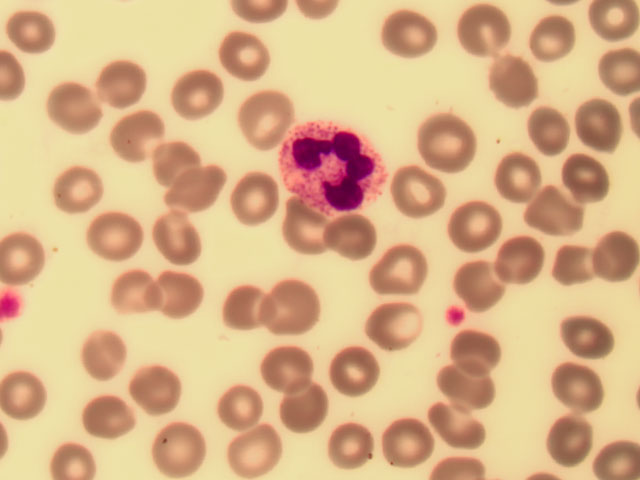Platelets: (1, 287, 24, 321), (444, 302, 466, 329)
RBC: (584, 47, 640, 101), (92, 58, 148, 111), (111, 107, 167, 160), (172, 63, 228, 116), (214, 30, 270, 83), (234, 89, 290, 142), (145, 130, 201, 183), (167, 161, 223, 214), (89, 206, 145, 259), (48, 161, 104, 214), (149, 209, 205, 262), (155, 265, 211, 318), (111, 262, 167, 315), (75, 329, 131, 382), (87, 392, 143, 445), (127, 359, 183, 412), (158, 425, 214, 478), (204, 379, 260, 432), (222, 420, 278, 473), (271, 381, 327, 434), (265, 344, 321, 397), (267, 276, 323, 329), (217, 284, 273, 337), (229, 169, 285, 222), (280, 204, 336, 257), (319, 209, 375, 262), (374, 238, 430, 291), (376, 304, 432, 357), (326, 341, 382, 394), (326, 422, 382, 475), (377, 415, 433, 468), (430, 400, 486, 453), (438, 362, 494, 415), (448, 326, 504, 379), (548, 367, 604, 420), (543, 409, 599, 462), (557, 315, 613, 368), (453, 261, 509, 314), (482, 234, 538, 287), (443, 203, 499, 256), (389, 164, 445, 217), (416, 119, 472, 172), (481, 146, 537, 199), (528, 184, 584, 237), (557, 150, 613, 203), (548, 233, 604, 286), (584, 226, 640, 279), (566, 103, 622, 156), (521, 109, 577, 162), (487, 59, 543, 112), (454, 5, 510, 58), (378, 9, 434, 62), (531, 12, 587, 65), (1, 230, 56, 283), (1, 372, 56, 425), (582, 1, 638, 53), (3, 8, 58, 59), (41, 82, 96, 133)
WBC: (280, 118, 381, 216)
